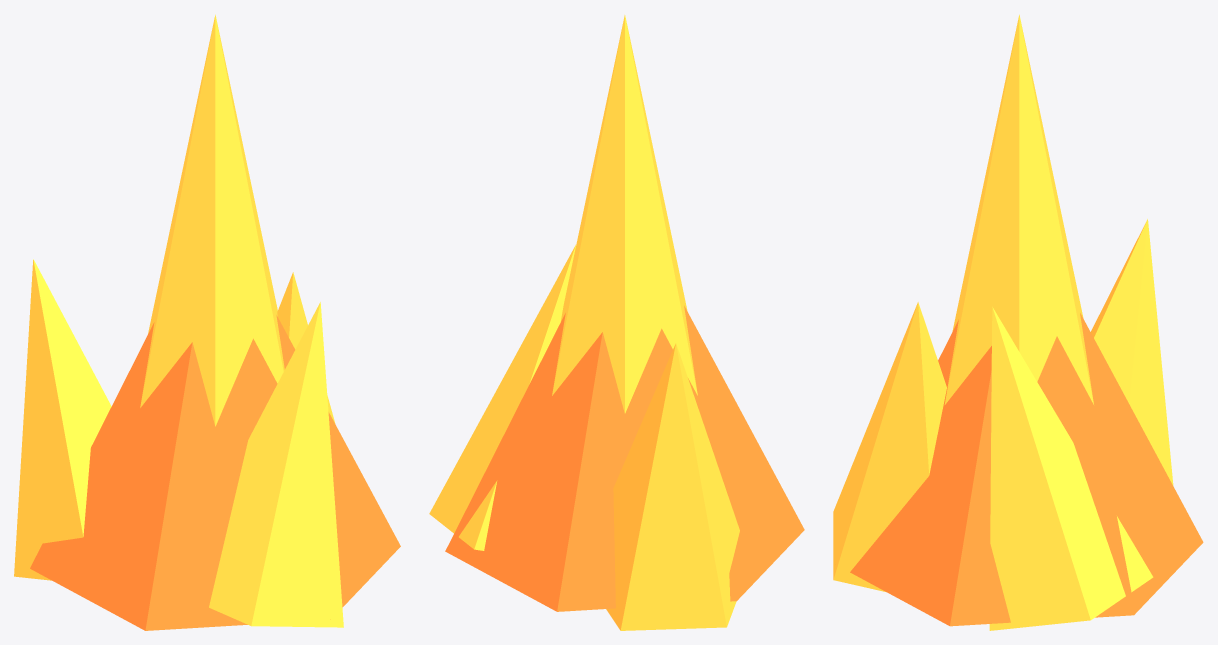
Rendered from FX_Flame_Small.fbx.
3 views of the same model, side by side, from view 1: azimuth 30°, elevation 25°; view 2: azimuth 150°, elevation 25°; view 3: azimuth 270°, elevation 25° (orthographic). The views are drawn at different scales.
Parts seen in each view (by area): view 1: FX_Flame_Small.002; view 2: FX_Flame_Small.002; view 3: FX_Flame_Small.002.
Boxes of the visible parts, x1,y1,x2,y2 form: FX_Flame_Small.002: (14, 14, 400, 630); FX_Flame_Small.002: (429, 15, 804, 630); FX_Flame_Small.002: (833, 14, 1203, 630).
Bounding box in the file's own units: 0.3148 × 0.531 × 0.3184.
